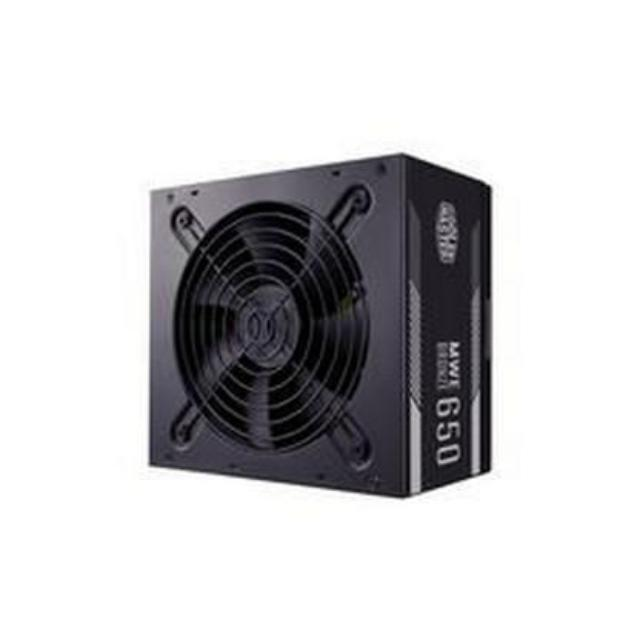PSU: (123, 140, 517, 511)
